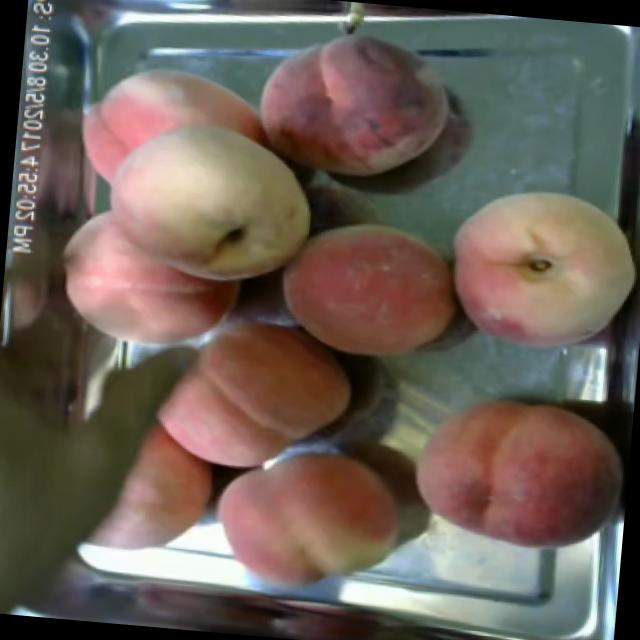Fruit: (84, 103, 331, 305), (237, 6, 476, 207), (133, 294, 368, 496), (398, 376, 634, 568), (193, 422, 425, 612), (429, 172, 640, 369), (39, 202, 260, 376), (262, 201, 474, 378)
